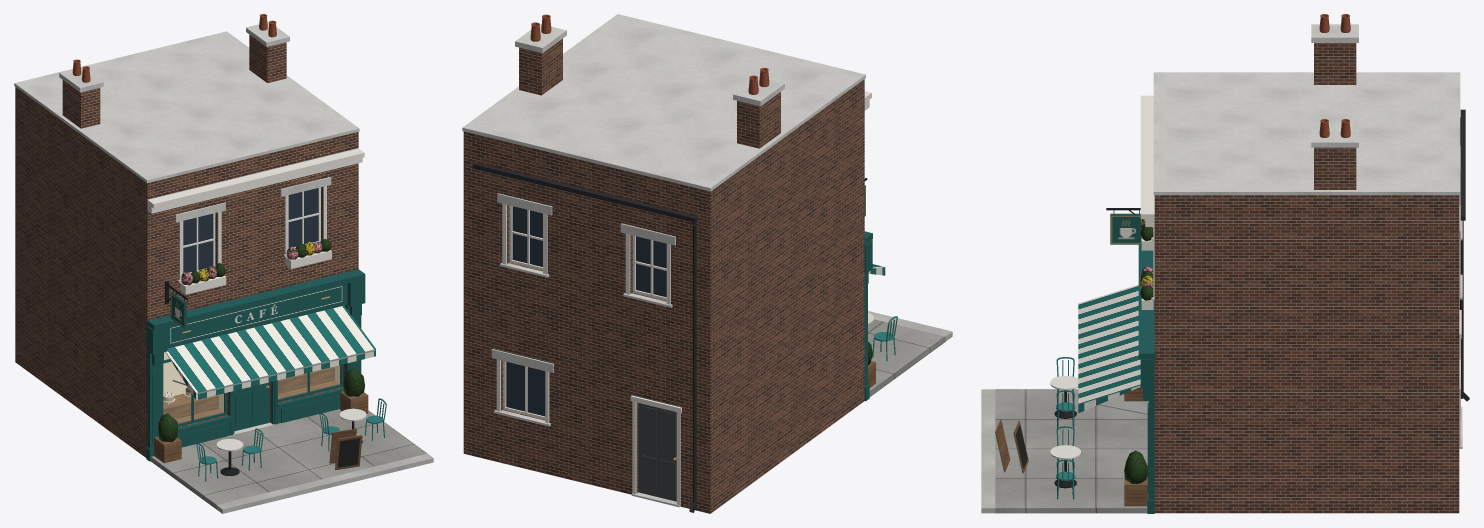
Rendered from cafe-front.glb.
3 views of the same model, side by side, from view 1: azimuth 30°, elevation 25°; view 2: azimuth 150°, elevation 25°; view 3: azimuth 270°, elevation 25° (orthographic). The views are drawn at different scales.
Parts seen in each view (by area): view 1: Caf_Front; view 2: Caf_Front; view 3: Caf_Front.
Boxes of the visible parts, x1,y1,x2,y2 form: Caf_Front: (14,14,433,513); Caf_Front: (462,14,952,513); Caf_Front: (981,14,1469,513).
Bounding box in the file's own units: 6.06 × 9.08 × 10.42.
37 materials, 14 textured.
